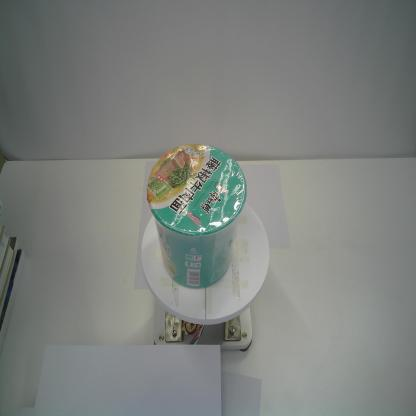Instant Noodles: (147, 142, 247, 290)
